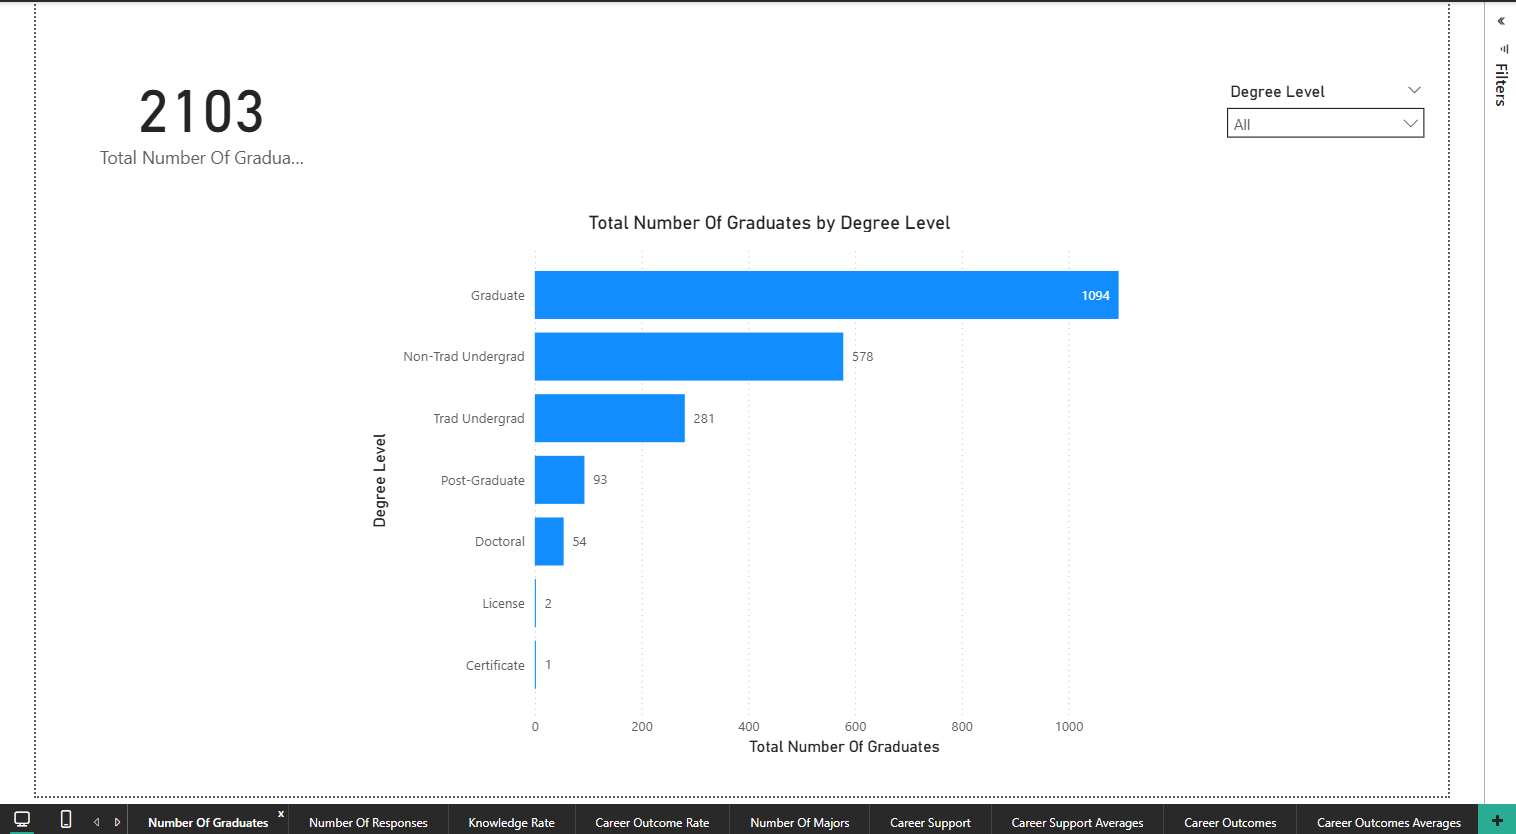

Layout of this report page (visuals, bound fields, positions):
{"tool":"powerbi","page":{"name":"Number Of Graduates","canvas":[1280,720],"ordinal":0},"visuals":[{"type":"barChart","fields":{"Category":["Sheet1.Degree Level"],"Y":["Sheet1.Total Number Of Students"]},"box":[297.9,189.4,733.5,498.7],"z":0},{"type":"slicer","fields":{"Values":["Sheet1.Degree Level"]},"box":[1070.3,68,199.2,68],"z":1000},{"type":"card","fields":{"Values":["Sheet1.Total Number Of Graduates"]},"box":[50.5,27,199,150],"z":2000}]}

Visuals, with their boxes on the page's 1280x720 design canvas (x1, y1, x2, y2). These are canvas units, not pixel positions in the 1516x834 screenshot, which may show the page scaled, cropped or inside an application window:
barChart - Sheet1.Degree Level x Sheet1.Total Number Of Students: x1=298, y1=189, x2=1031, y2=688
slicer - Sheet1.Degree Level: x1=1070, y1=68, x2=1270, y2=136
card - Sheet1.Total Number Of Graduates: x1=50, y1=27, x2=250, y2=177
